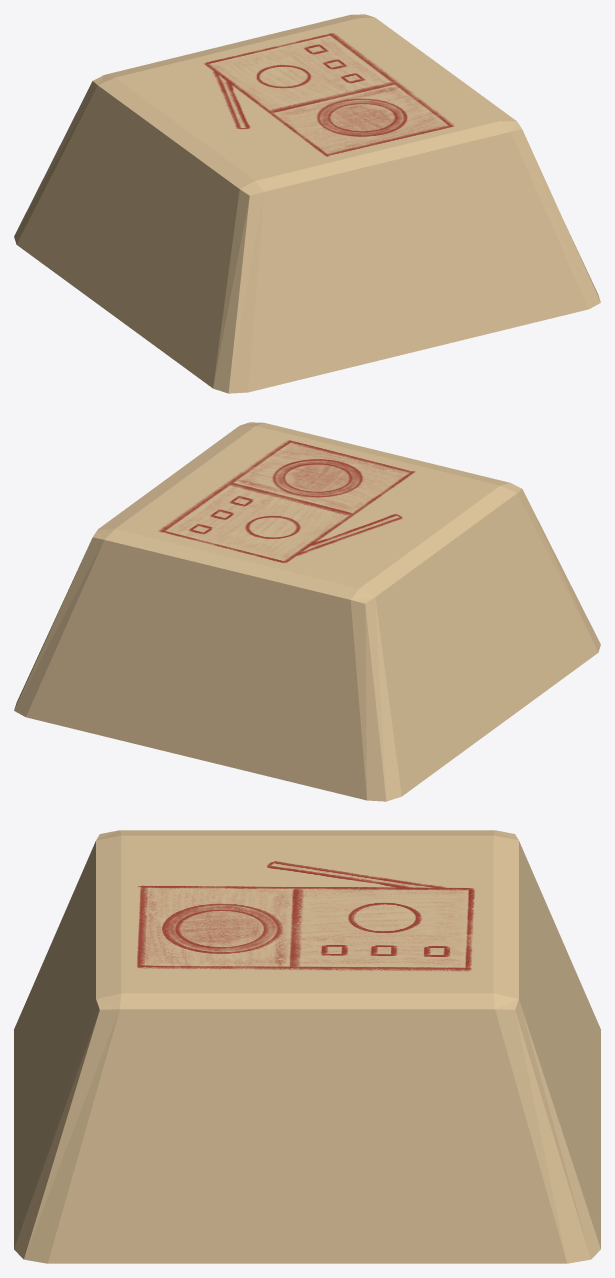
Rendered from botonRadio.fbx.
The picture shows the model from 3 angles, top to bottom: view 1: azimuth 30°, elevation 25°; view 2: azimuth 150°, elevation 25°; view 3: azimuth 270°, elevation 25°; orthographic projection. The views are drawn at different scales.
Parts seen in each view (by area): view 1: bttn0; view 2: bttn0; view 3: bttn0.
Part boxes in pixels (bbox=[...]): bttn0: bbox=[14, 14, 600, 393]; bttn0: bbox=[14, 422, 600, 801]; bttn0: bbox=[14, 830, 600, 1263].
Bounding box in the file's own units: 1.8 × 0.7587 × 1.79.
